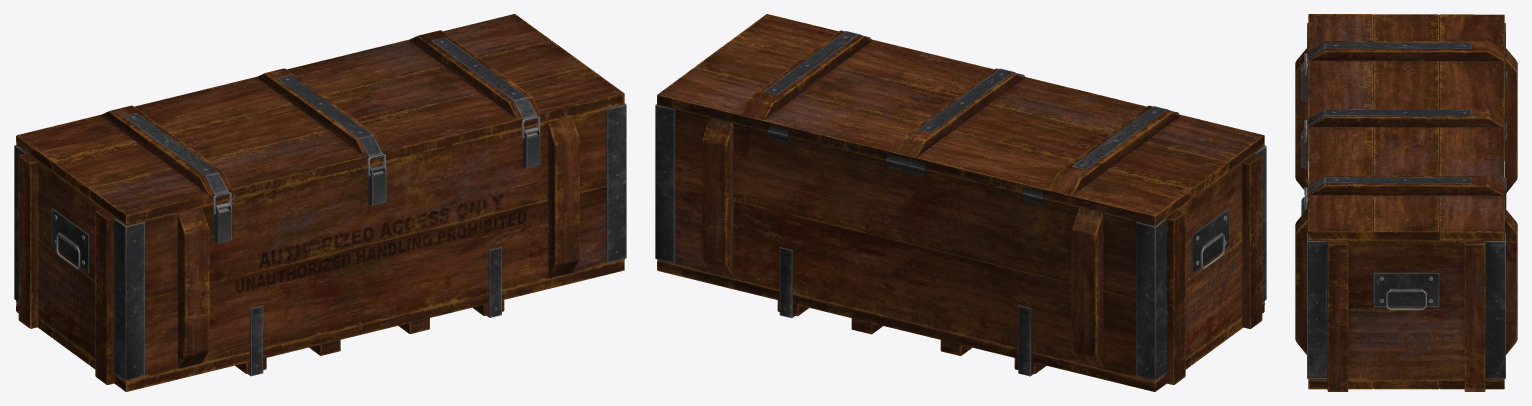
File: crate_military.glb
3 views of the same model, side by side, from view 1: azimuth 30°, elevation 25°; view 2: azimuth 150°, elevation 25°; view 3: azimuth 270°, elevation 25° (orthographic). The views are drawn at different scales.
Parts seen in each view (by area): view 1: crate_military; view 2: crate_military; view 3: crate_military.
Boxes of the visible parts, box(x1,y1,x2,y2) form: crate_military: box(14, 14, 626, 391); crate_military: box(655, 14, 1266, 391); crate_military: box(1295, 14, 1517, 391).
Size of the model in its own units: 1.24 by 0.4646 by 0.5198.
Materials: 1 (1 with a texture image).
